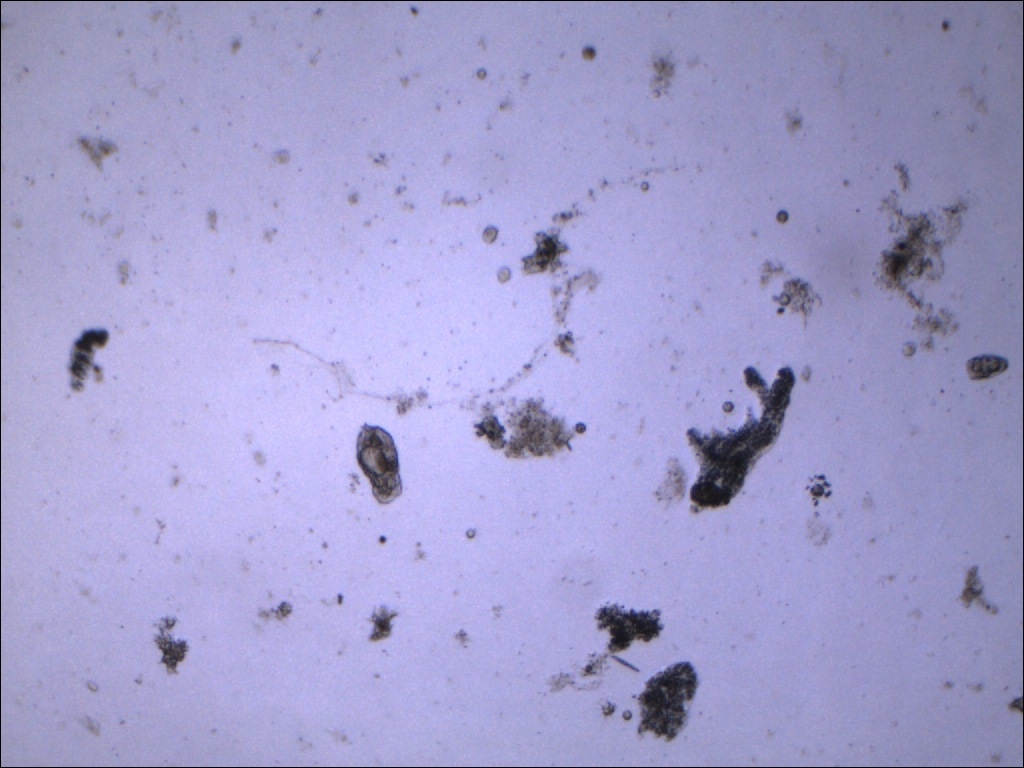amoeba: (682, 358, 802, 516)
